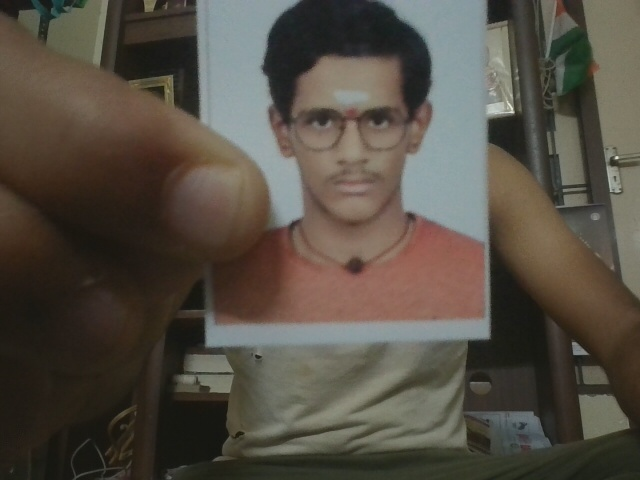fake: (261, 52, 443, 234)
